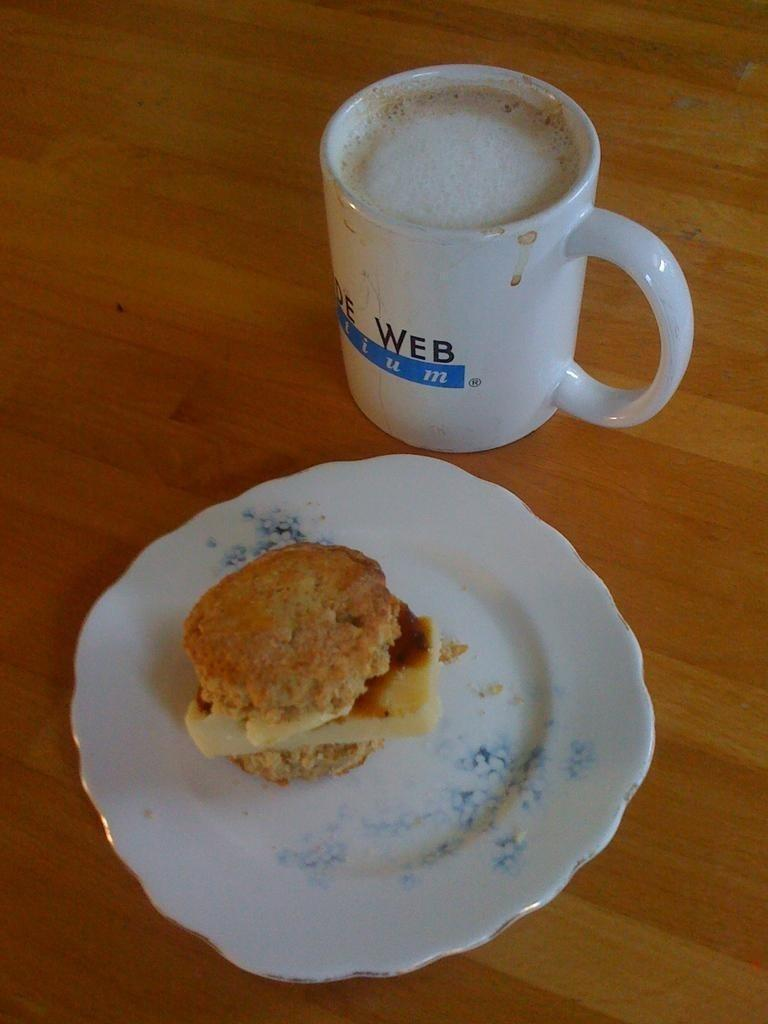cup-handle: (318, 63, 696, 455)
